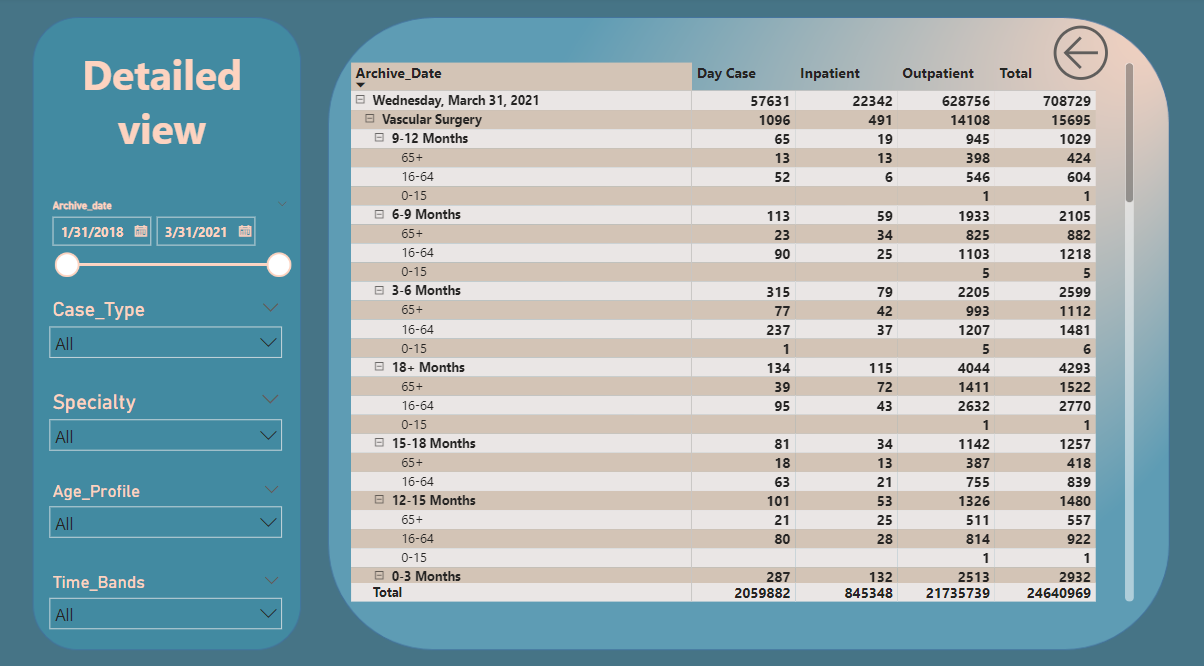

What the dashboard file says about the page in this screenshot:
{"tool":"powerbi","page":{"name":"Detail","canvas":[1280,720],"ordinal":1},"visuals":[{"type":"slicer","fields":{"Values":["All_data.Case_Type"]},"box":[48,312,264,120],"z":0},{"type":"slicer","fields":{"Values":["All_data.Archive_Date"]},"box":[48,208,272,144],"z":1000},{"type":"slicer","fields":{"Values":["All_data.Specialty"]},"box":[48,408,264,120],"z":2000},{"type":"textbox","box":[48,48,256,128],"z":3000},{"type":"pivotTable","fields":{"Rows":["All_data.Archive_Date","All_data.Specialty","All_data.Time_Bands","All_data.Age_Profile"],"Columns":["All_data.Case_Type"],"Values":["Sum(All_data.Total)"]},"box":[368,64,832,576],"z":4000},{"type":"slicer","fields":{"Values":["All_data.Age_Profile"]},"box":[48,504,264,96],"z":4001},{"type":"slicer","fields":{"Values":["All_data.Time_Bands"]},"box":[48,600,264,72],"z":4002},{"type":"actionButton","box":[1104,24,120,72],"z":4003}]}

Visuals, with their boxes in screenshot pixels (x1, y1, x2, y2), scaled from the page's 1280x720 canvas onto the 1204x666 screenshot:
slicer - All_data.Case_Type: [45,289,293,400]
slicer - All_data.Archive_Date: [45,192,301,326]
slicer - All_data.Specialty: [45,377,293,488]
textbox: [45,44,286,163]
pivotTable - All_data.Archive_Date x All_data.Specialty: [346,59,1129,592]
slicer - All_data.Age_Profile: [45,466,293,555]
slicer - All_data.Time_Bands: [45,555,293,622]
actionButton: [1038,22,1151,89]
